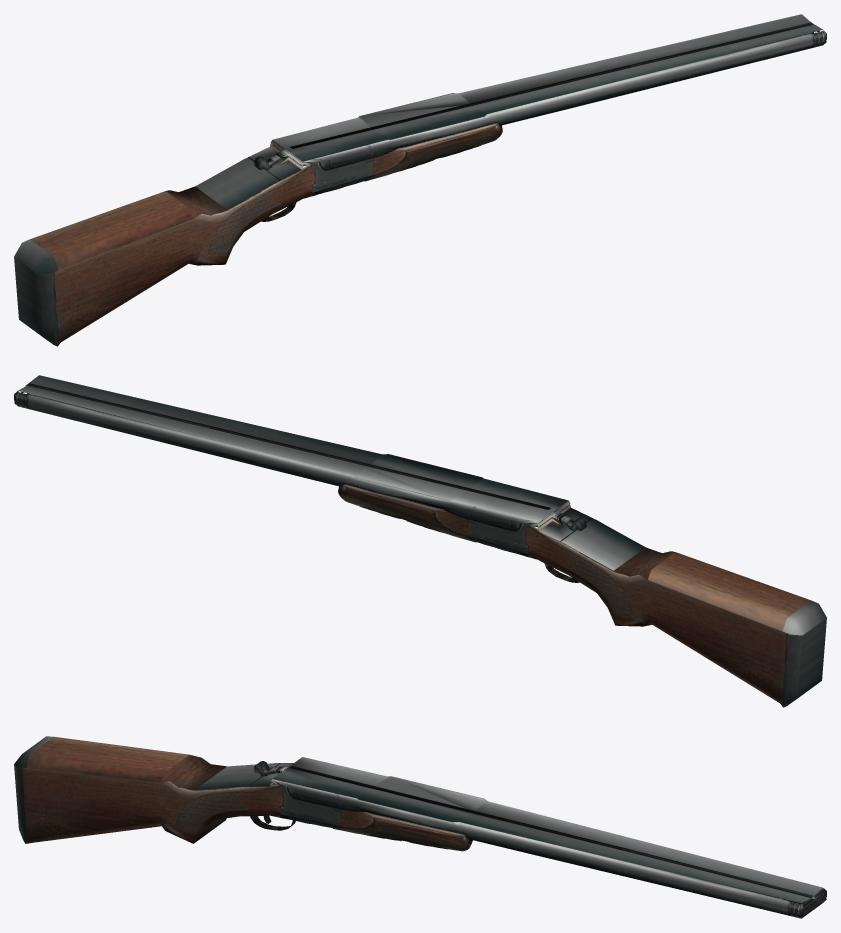
Rendered from Shotgun.fbx.
The picture shows the model from 3 angles, top to bottom: view 1: azimuth 30°, elevation 25°; view 2: azimuth 150°, elevation 25°; view 3: azimuth 330°, elevation 25°; orthographic projection.
Visible parts, largest first — view 1: Cube; view 2: Cube; view 3: Cube.
Part boxes in pixels (box(x1,y1,x2,y2)): Cube: box(14, 14, 826, 346); Cube: box(14, 375, 826, 707); Cube: box(14, 736, 826, 918).
Bounding box in the file's own units: 912 × 139 × 64.31.
